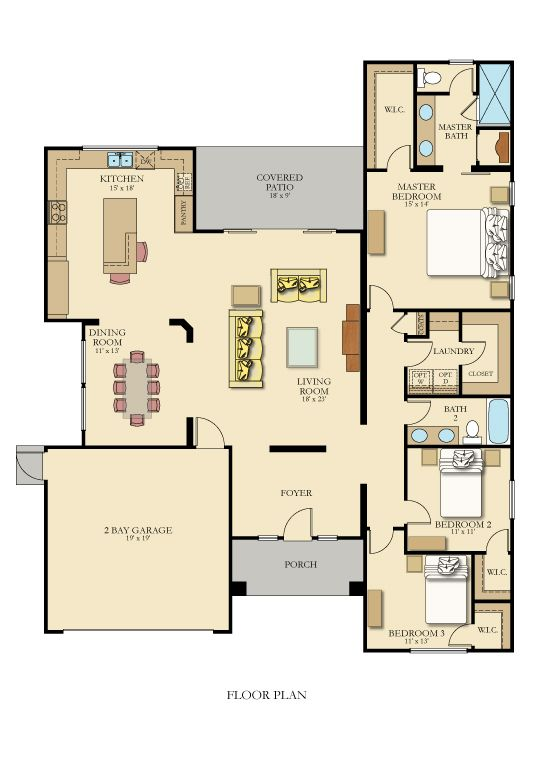door: (193, 413, 227, 446), (282, 501, 316, 534), (18, 453, 46, 483), (384, 138, 412, 166), (445, 66, 474, 92), (464, 338, 489, 367), (406, 339, 434, 364), (407, 399, 433, 424), (483, 524, 509, 549), (409, 501, 435, 526), (368, 532, 393, 557), (446, 623, 470, 647), (367, 281, 390, 303), (454, 100, 477, 122), (386, 314, 403, 337)
